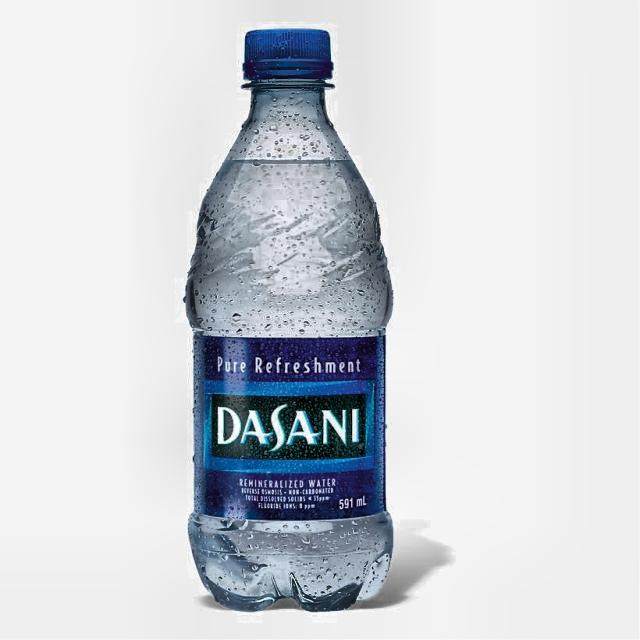Bottles: (176, 15, 406, 620)
